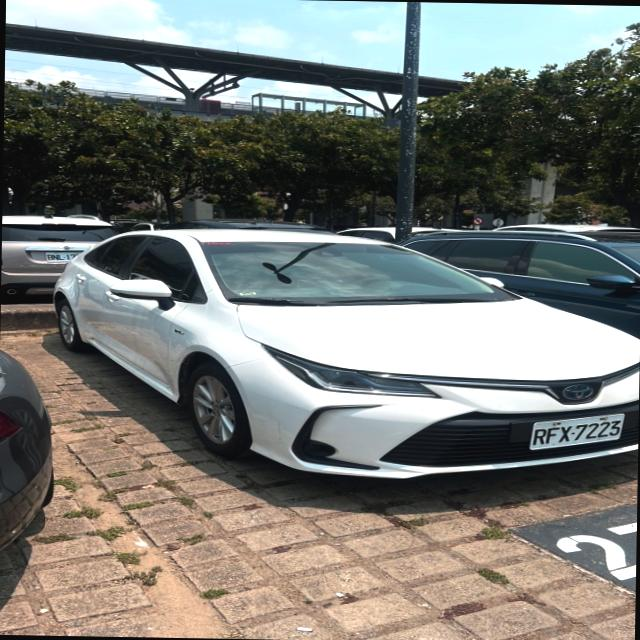license plate: (528, 413, 624, 450)
wheel: (188, 362, 250, 457)
